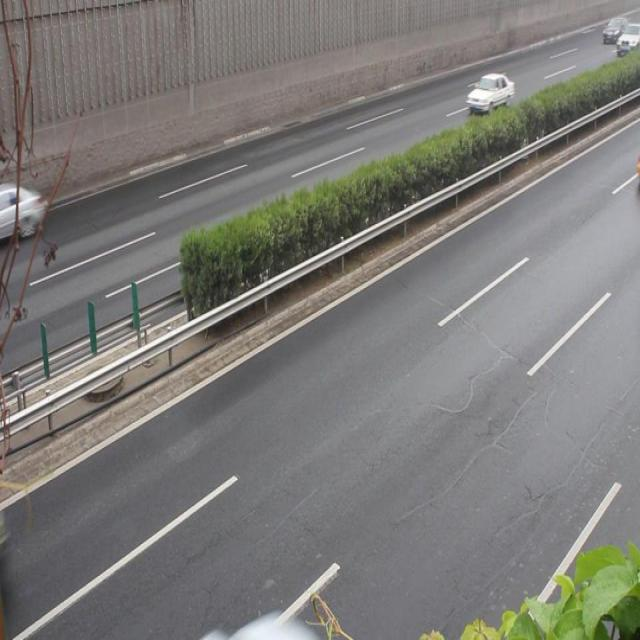car: (206, 602, 325, 640), (0, 182, 44, 238), (469, 73, 515, 115)
